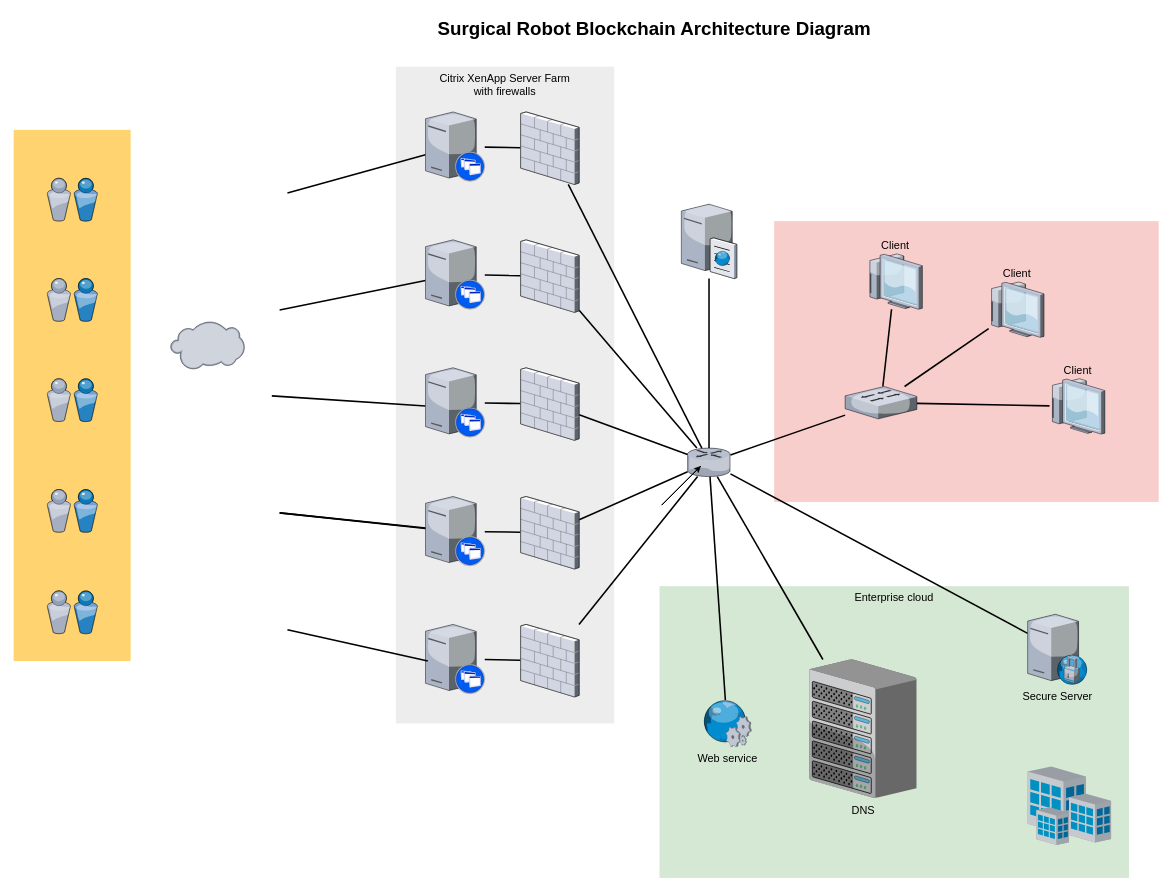
Image size: 1172x891. Some labels were removed from this diagram. Here are the shapes that lost their labels. From the top down, the box of each, then its label:
(681, 202, 736, 278): Web Server
(170, 321, 244, 369): MQTT
(774, 221, 1158, 502): Outside Networks
(13, 129, 130, 661): Surgical Robot Node
